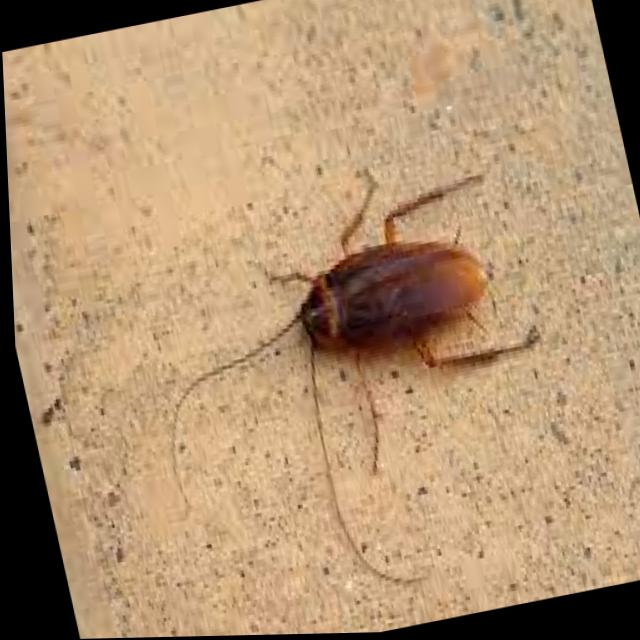Cockroach: (106, 127, 589, 629)
